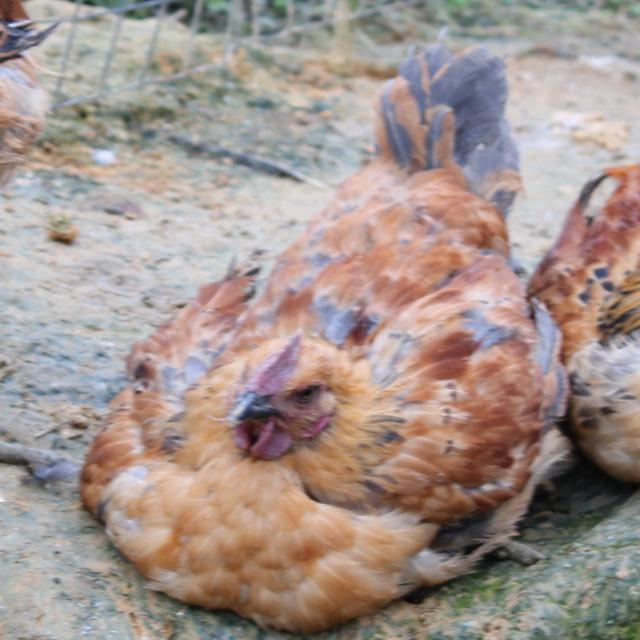hen: (81, 46, 570, 631)
